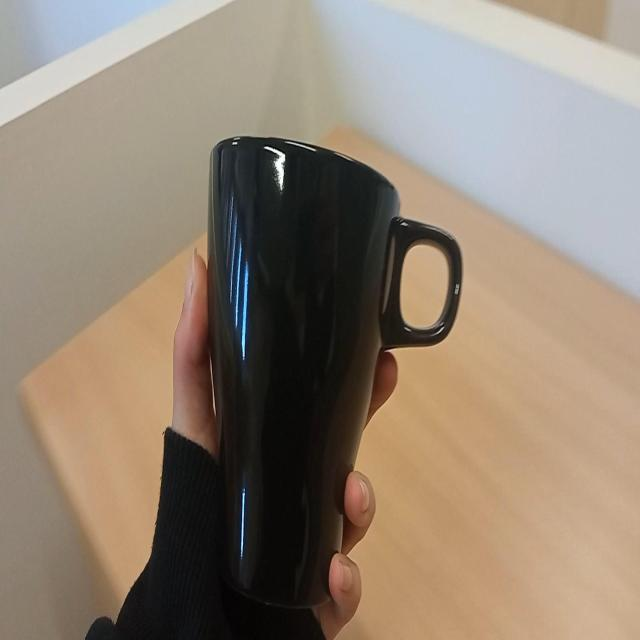cup: (205, 128, 464, 612)
